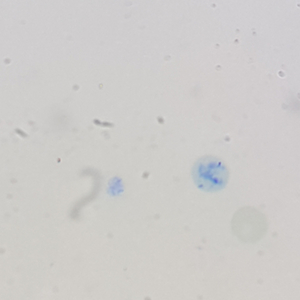aggregate reticulocyte: (190, 154, 231, 194)
erythrocyte: (229, 205, 270, 245)
